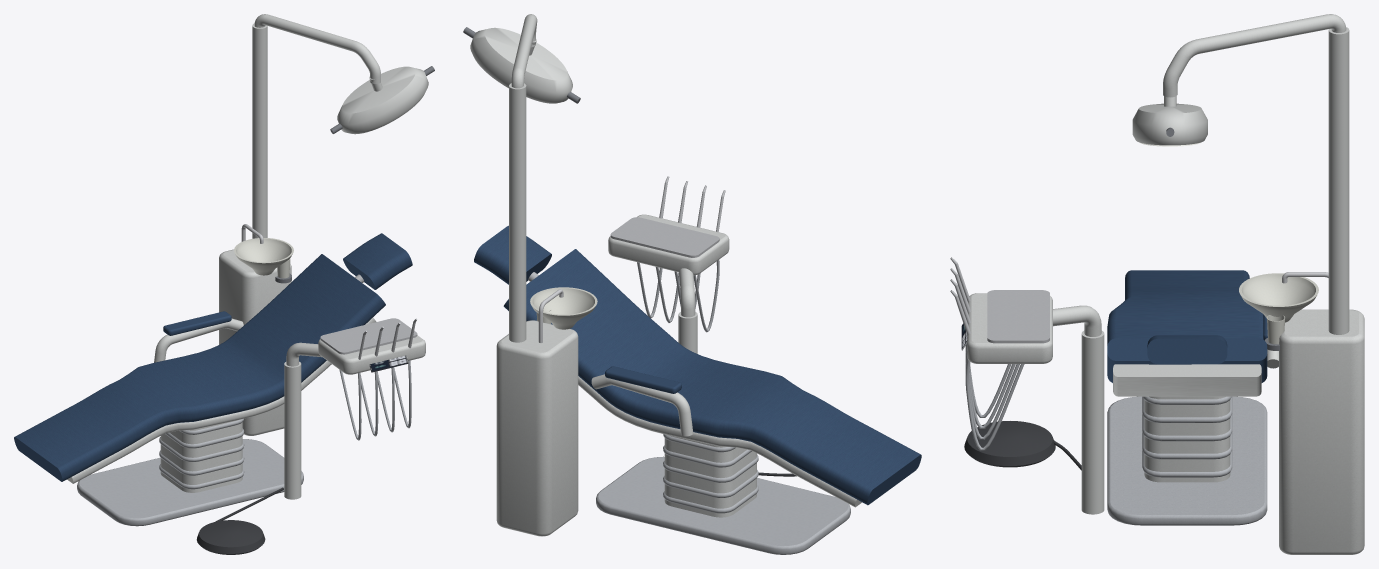
Rendered from dental-unit.glb.
3 views of the same model, side by side, from view 1: azimuth 30°, elevation 25°; view 2: azimuth 150°, elevation 25°; view 3: azimuth 270°, elevation 25° (orthographic). The views are drawn at different scales.
Visible parts, largest first — view 1: Armrest, Delivery unit panel, Cup filler and rinse spout, Foot control, Delivery unit, Handpiece hoses; view 2: Armrest, Delivery unit panel, Delivery unit, Cup filler and rinse spout, Handpiece hoses, Handpieces; view 3: Armrest, Delivery unit panel, Cup filler and rinse spout, Delivery unit, Foot control, Handpiece hoses, Handpieces.
Part boxes in pixels (box(x1,y1,x2,y2)): Armrest: box(14, 14, 428, 499); Delivery unit panel: box(77, 355, 408, 526); Cup filler and rinse spout: box(234, 66, 434, 283); Foot control: box(196, 487, 283, 554); Delivery unit: box(320, 274, 417, 354); Handpiece hoses: box(339, 360, 411, 440); Armrest: box(470, 14, 921, 536); Delivery unit panel: box(596, 434, 850, 554); Delivery unit: box(528, 217, 719, 281); Cup filler and rinse spout: box(463, 27, 597, 342); Handpiece hoses: box(637, 260, 719, 332); Handpieces: box(659, 176, 725, 231); Armrest: box(967, 14, 1364, 554); Delivery unit panel: box(961, 323, 1267, 525); Cup filler and rinse spout: box(1166, 127, 1328, 350); Delivery unit: box(987, 290, 1049, 343); Foot control: box(964, 421, 1081, 470); Handpiece hoses: box(965, 343, 1024, 450); Handpieces: box(950, 257, 970, 335).
Size of the model in its own units: 2.11 by 2.07 by 1.45.
Materials: 13 (13 with a texture image).
